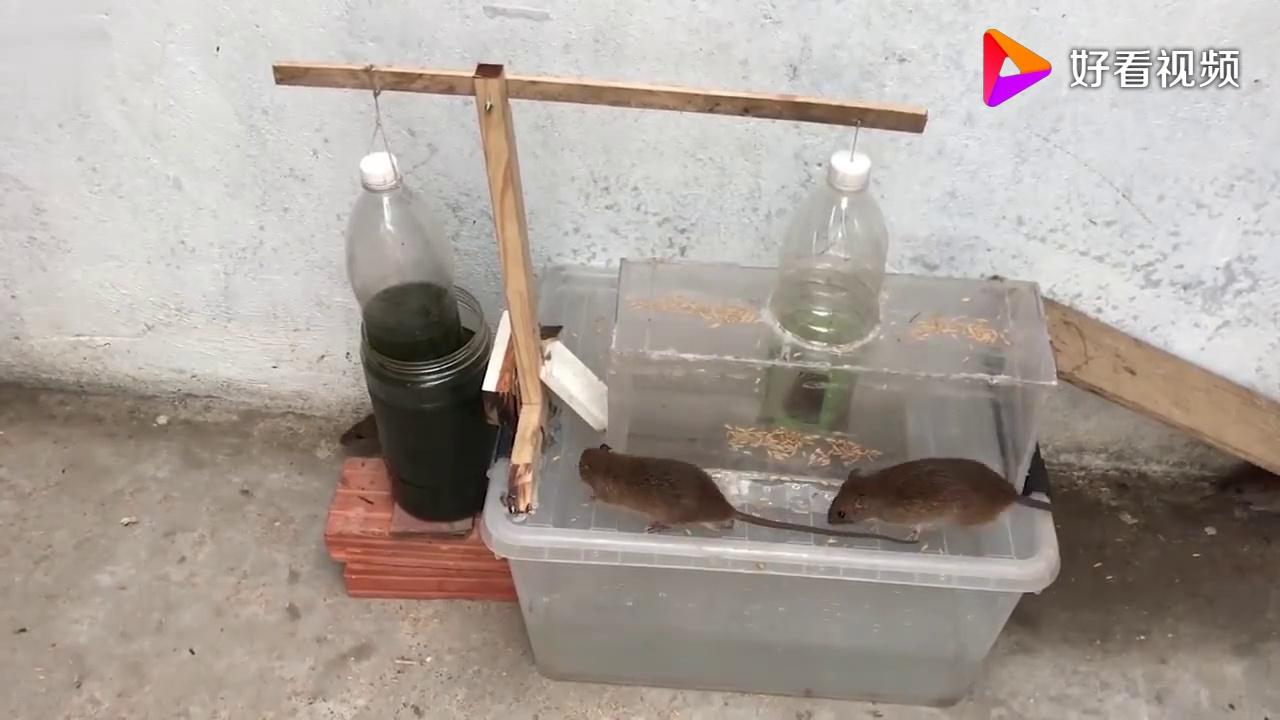rat: (566, 427, 791, 547), (815, 449, 1059, 543)
